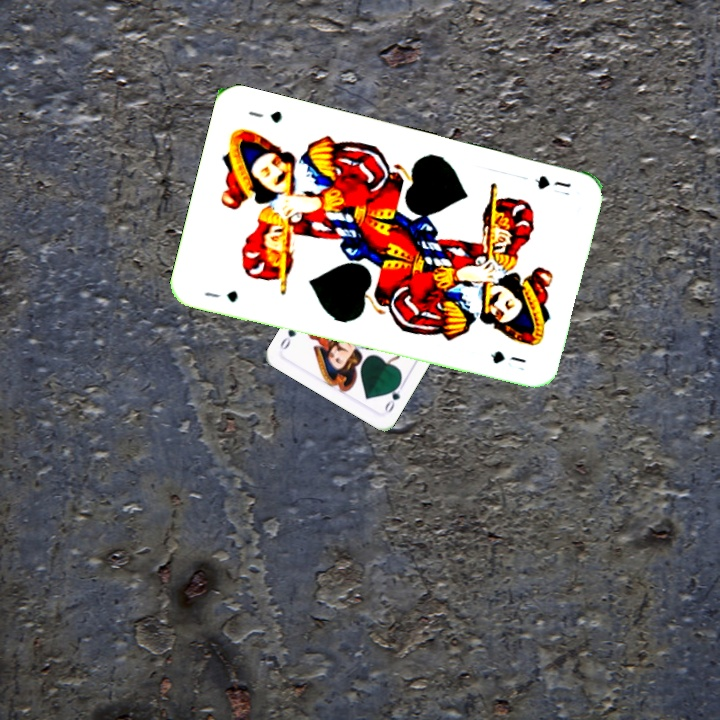GO: (380, 377, 407, 415)
GU: (531, 171, 573, 192), (200, 286, 241, 305)
